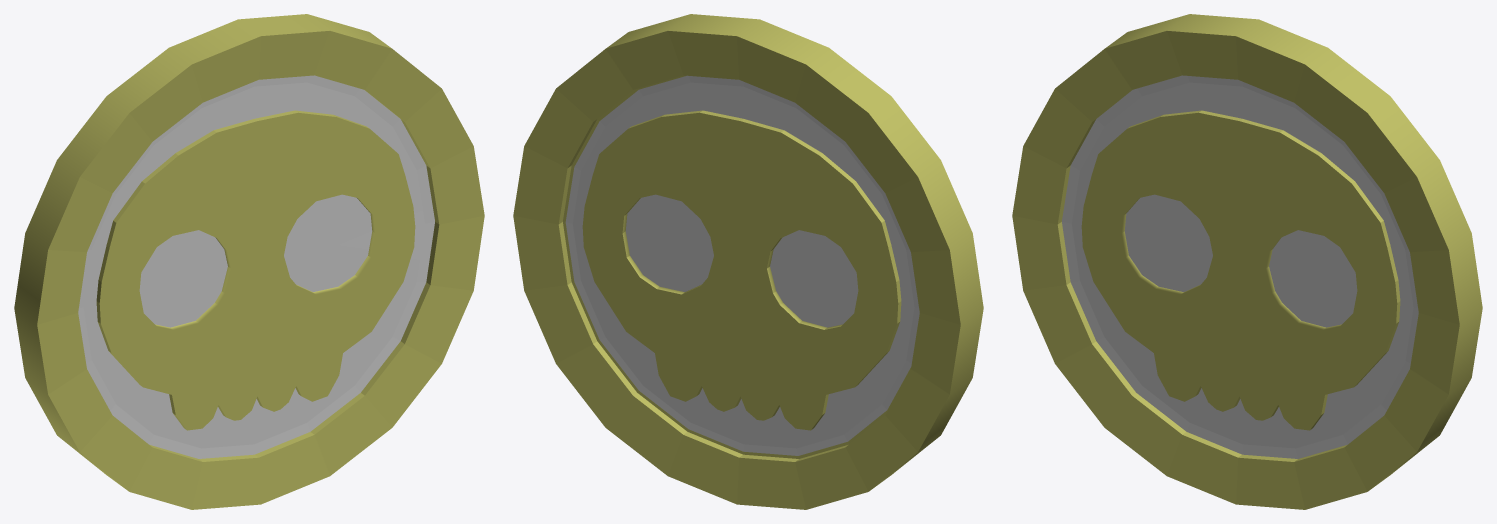
The model's file is Coin.fbx.
3 renders of one model, left to right at view 1: azimuth 30°, elevation 25°; view 2: azimuth 150°, elevation 25°; view 3: azimuth 330°, elevation 25°, orthographic.
Parts seen in each view (by area): view 1: polySurface7; view 2: polySurface7; view 3: polySurface7.
Part boxes in pixels (x1,y1,x2,y2): polySurface7: [14, 14, 484, 509]; polySurface7: [513, 14, 983, 509]; polySurface7: [1012, 14, 1482, 509].
Bounding box in the file's own units: 24.87 × 24.87 × 2.21.
